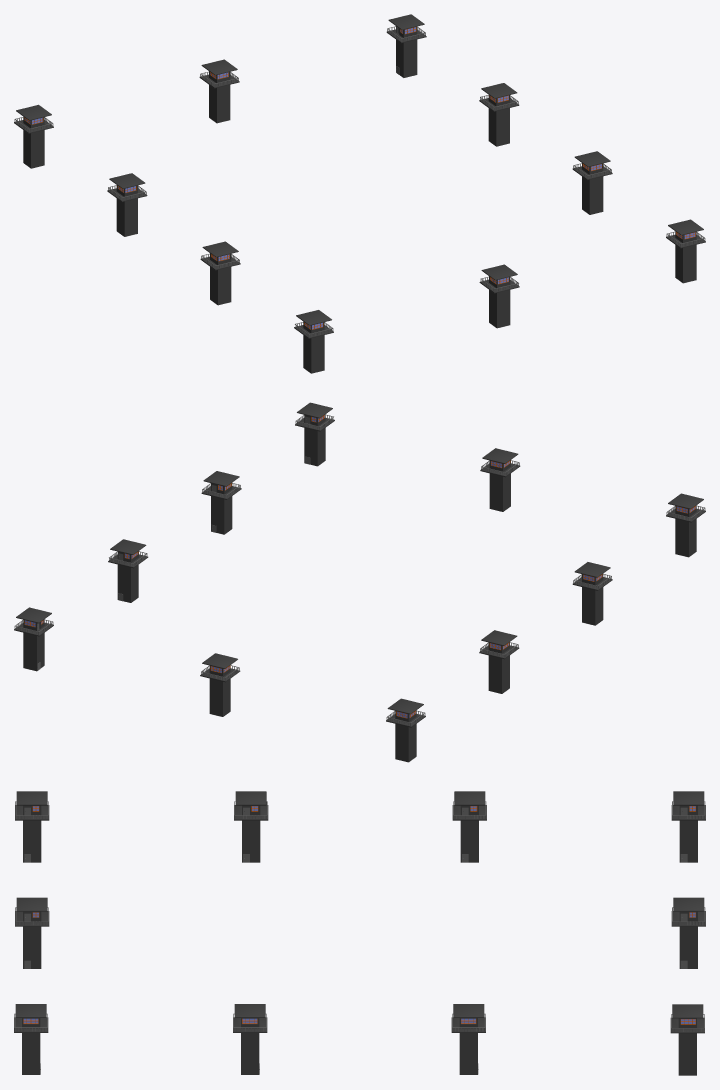
The model's file is kule.fbx.
3 views of the same model, one above another, from view 1: azimuth 30°, elevation 25°; view 2: azimuth 150°, elevation 25°; view 3: azimuth 270°, elevation 25° (orthographic). The views are drawn at different scales.
Visible parts, largest first — view 1: Kule; view 2: Kule; view 3: Kule.
Part boxes in pixels (box(x1,y1,x2,y2)): Kule: box(14, 14, 705, 373); Kule: box(14, 402, 705, 762); Kule: box(14, 791, 705, 1075).
Size of the model in its own units: 11788 by 1475 by 15158.
